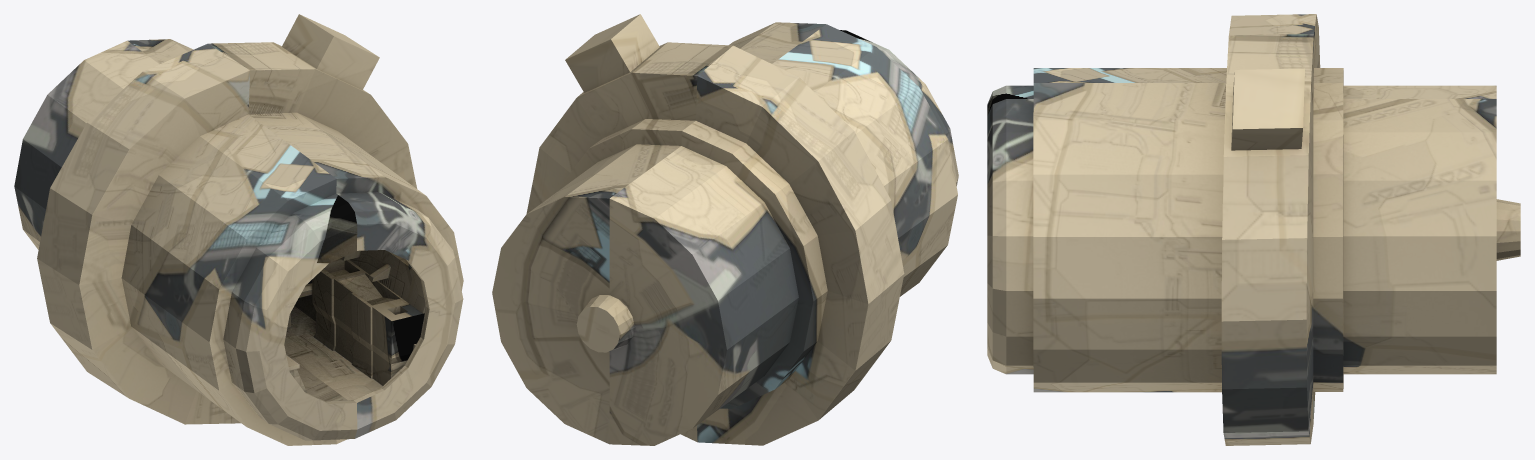
File: pod.glb
The picture shows the model from 3 angles, left to right: view 1: azimuth 30°, elevation 25°; view 2: azimuth 150°, elevation 25°; view 3: azimuth 270°, elevation 25°; orthographic projection. The views are drawn at different scales.
Parts seen in each view (by area): view 1: Cylinder; view 2: Cylinder; view 3: Cylinder.
Boxes of the visible parts, x1=… form: Cylinder: x1=14, y1=14, x2=463, y2=445; Cylinder: x1=492, y1=14, x2=958, y2=445; Cylinder: x1=987, y1=14, x2=1520, y2=445.
Size of the model in its own units: 5.75 by 5.89 by 7.06.
1 material, 1 textured.
